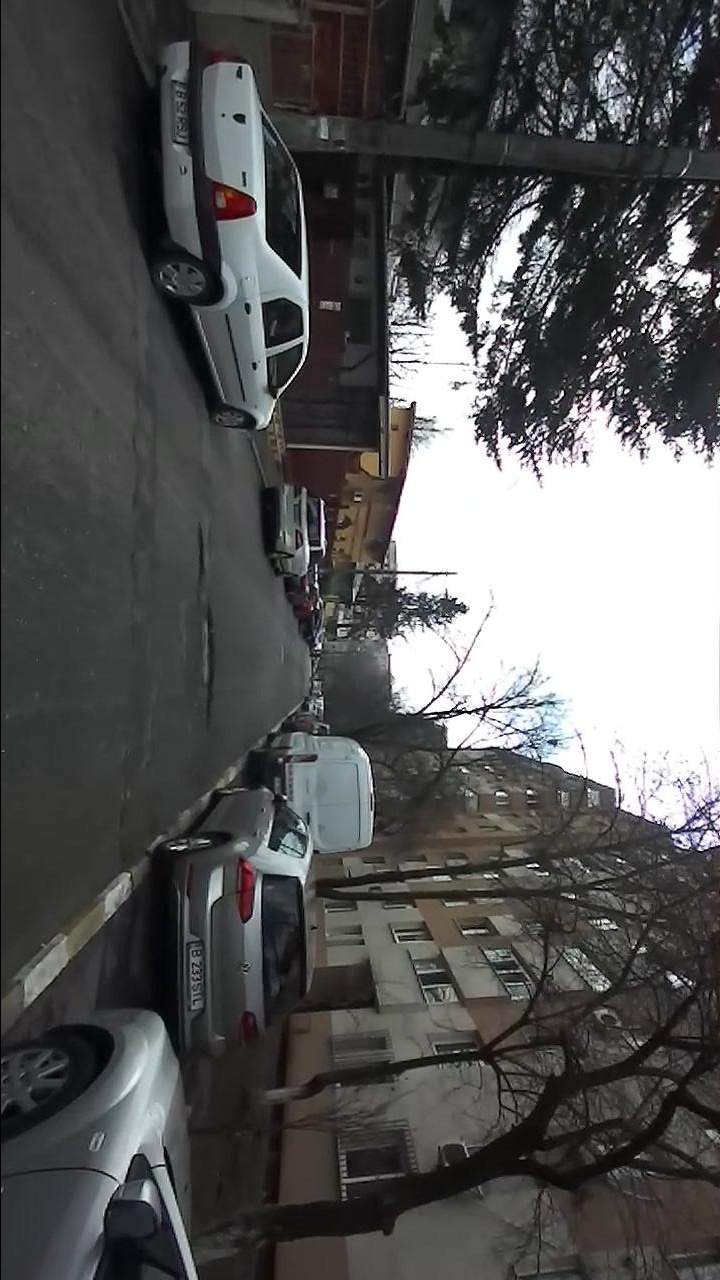pothole: (196, 603, 218, 731), (194, 520, 208, 589)
